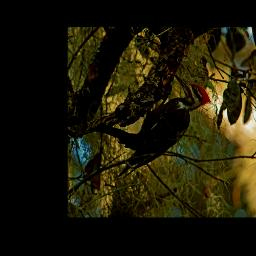Woodpecker: (115, 74, 212, 178)
